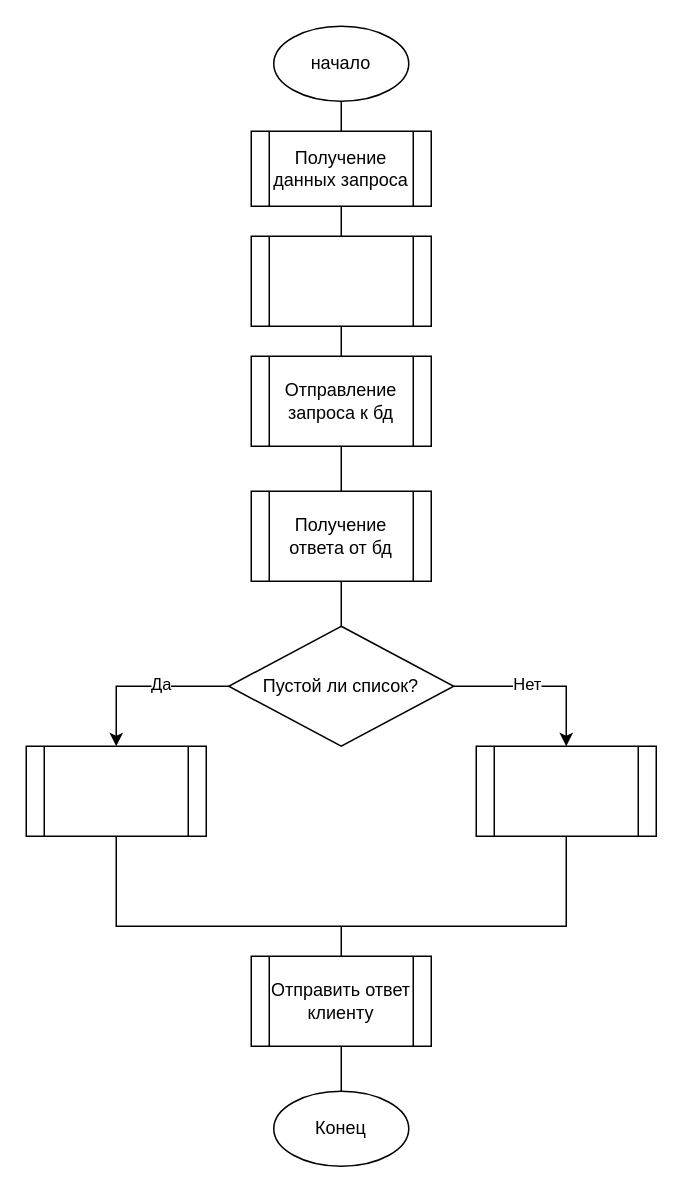
Image size: 683x1193. Some labels were removed from this diagram. Here are the shapes that lost their labels. From the top down, the box of each, then its label:
(250, 235, 431, 326): Построение запроса к бд на получение списка авто
(25, 745, 206, 836): Сформировать ответ, что список пуст
(475, 745, 656, 836): Сформировать ответ и вложить туда список
